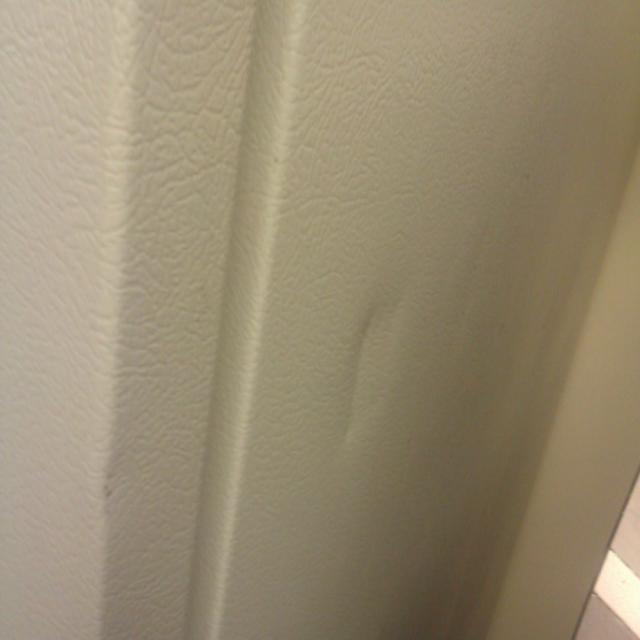dents: (346, 303, 388, 438)
